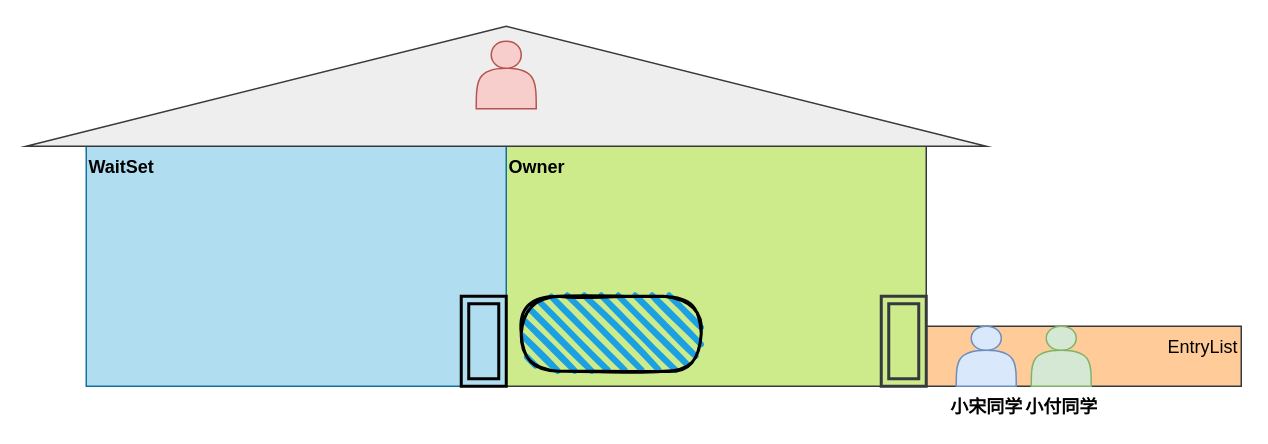
This 1268x444 diagram has some shape labels left out. Here are the shapes that lost their labels. From the top down, the centre of each, then its label:
At (505,74): "小龙老师".
At (610,333): "算盘".
